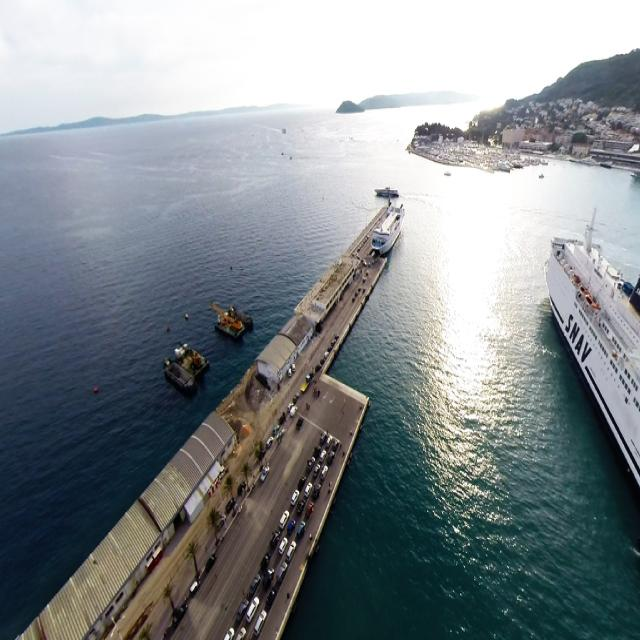Boat: (541, 199, 640, 496), (369, 198, 410, 259), (376, 189, 398, 199), (164, 325, 171, 338), (93, 385, 99, 400), (184, 307, 188, 321), (446, 168, 451, 178), (538, 174, 546, 180), (288, 156, 292, 159), (282, 147, 283, 150)
